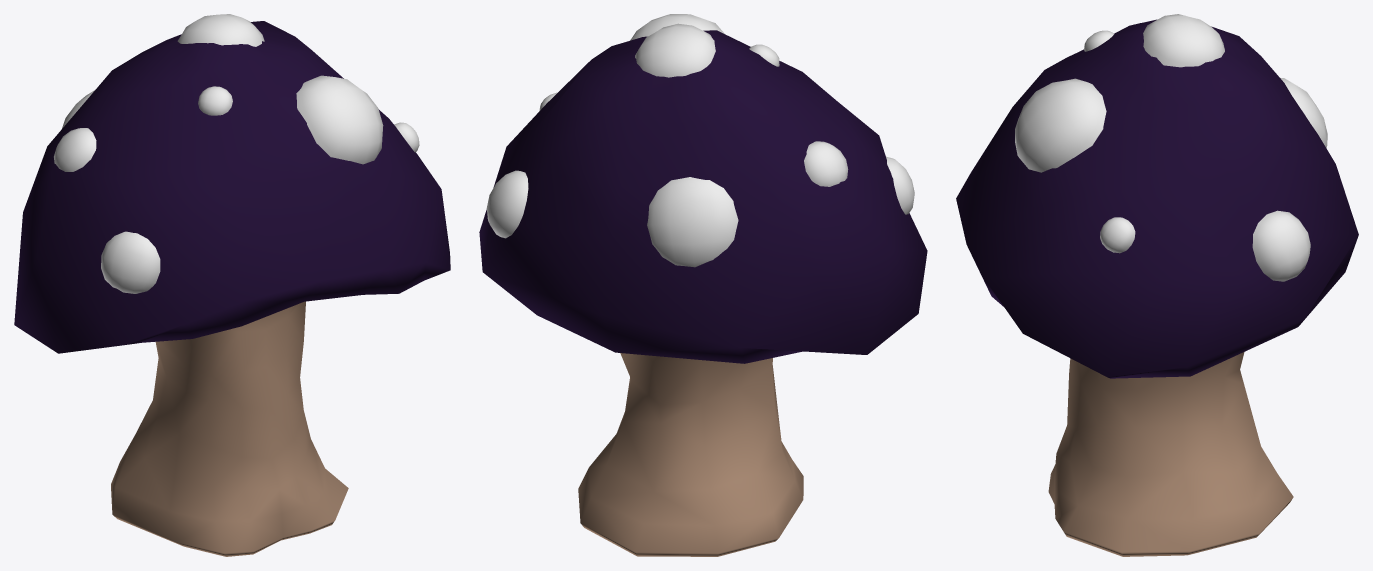
File: simple mushroom.fbx
3 views of the same model, side by side, from view 1: azimuth 30°, elevation 25°; view 2: azimuth 150°, elevation 25°; view 3: azimuth 270°, elevation 25° (orthographic).
Visible parts, largest first — view 1: simple_mushroom; view 2: simple_mushroom; view 3: simple_mushroom.
Boxes of the visible parts, left/top/right/bottom form: simple_mushroom: left=14, top=14, right=450, bottom=556; simple_mushroom: left=479, top=14, right=927, bottom=556; simple_mushroom: left=956, top=14, right=1358, bottom=556.
Size of the model in its own units: 1.34 by 1.57 by 1.16.
